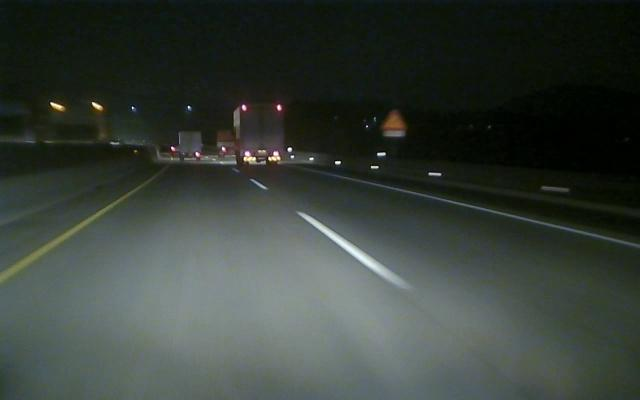lane: (329, 176, 637, 249), (251, 179, 420, 292), (1, 198, 123, 283)
